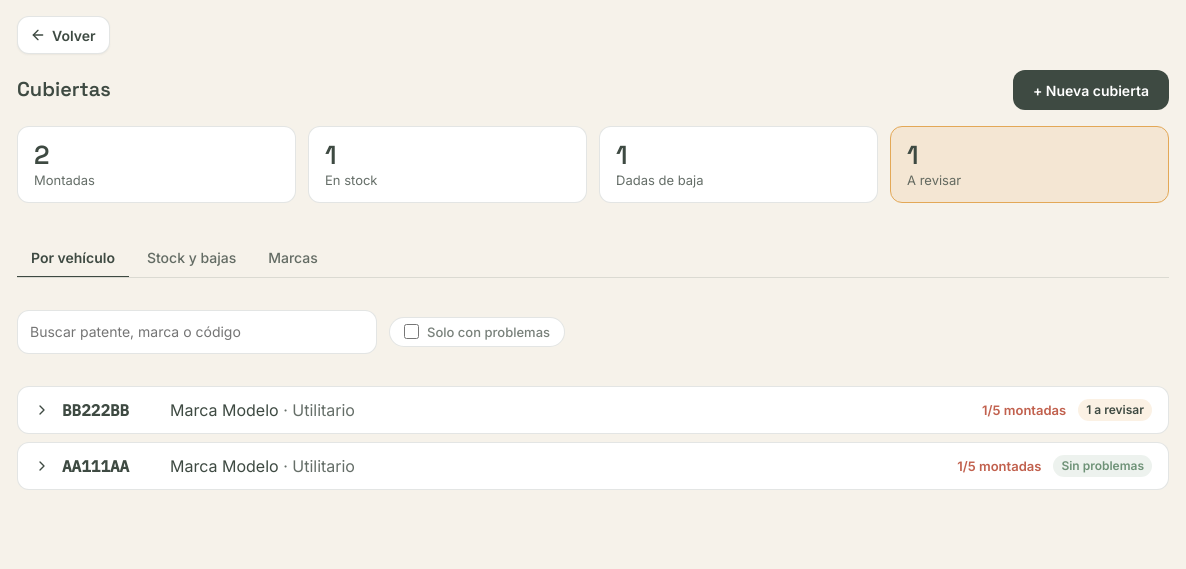
inventario de cubiertas (CAM-157) › stock y bajas se filtran y se buscan
Click the tab "Stock y bajas" at {"x": 192, "y": 258}, box [133, 239, 250, 278]
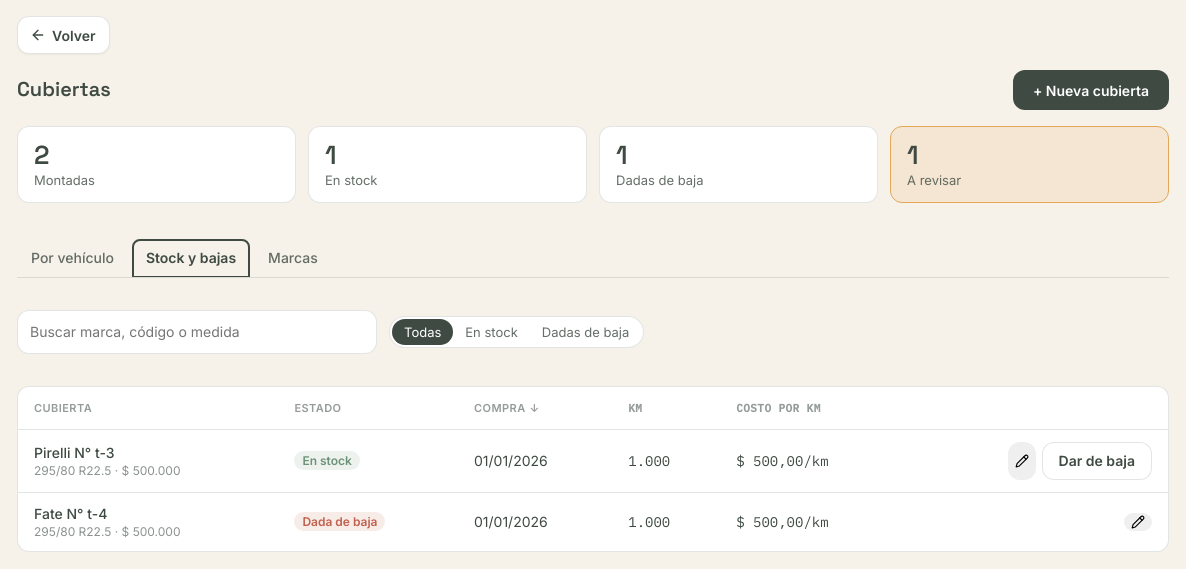
Now the text "Pirelli N° t-3" is shown, box [34, 444, 114, 461]
Now the text "Fate N° t-4" is shown, box [34, 505, 107, 522]
Click the button "Dadas de baja" at {"x": 586, "y": 332}, box [530, 319, 641, 345]
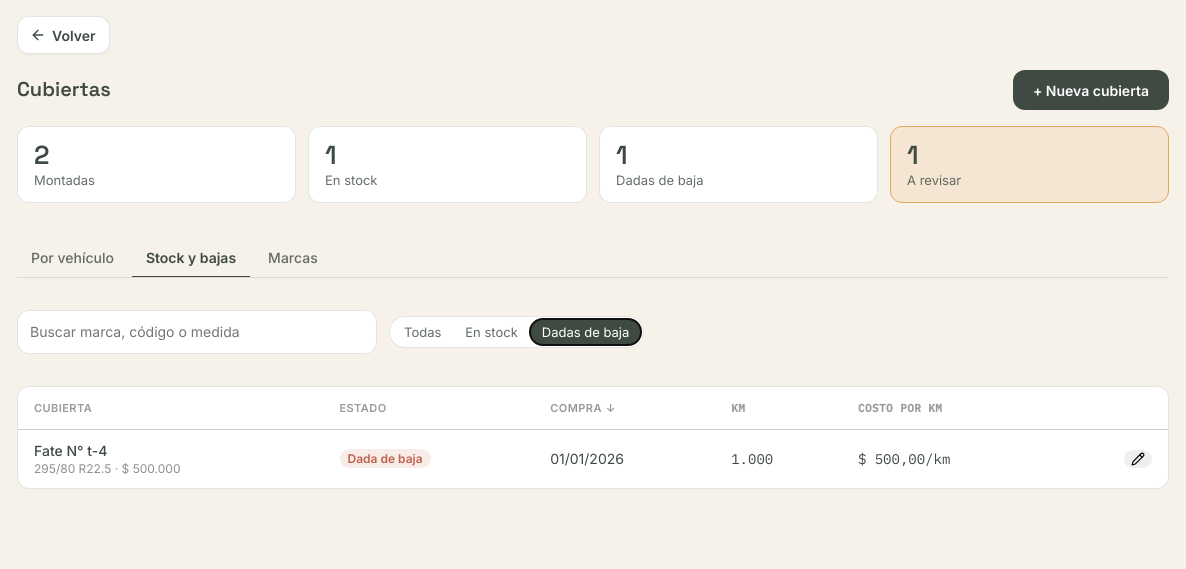
Now the text "Pirelli N° t-3" is gone
Click the button "Todas" at {"x": 423, "y": 332}, box [392, 319, 453, 345]
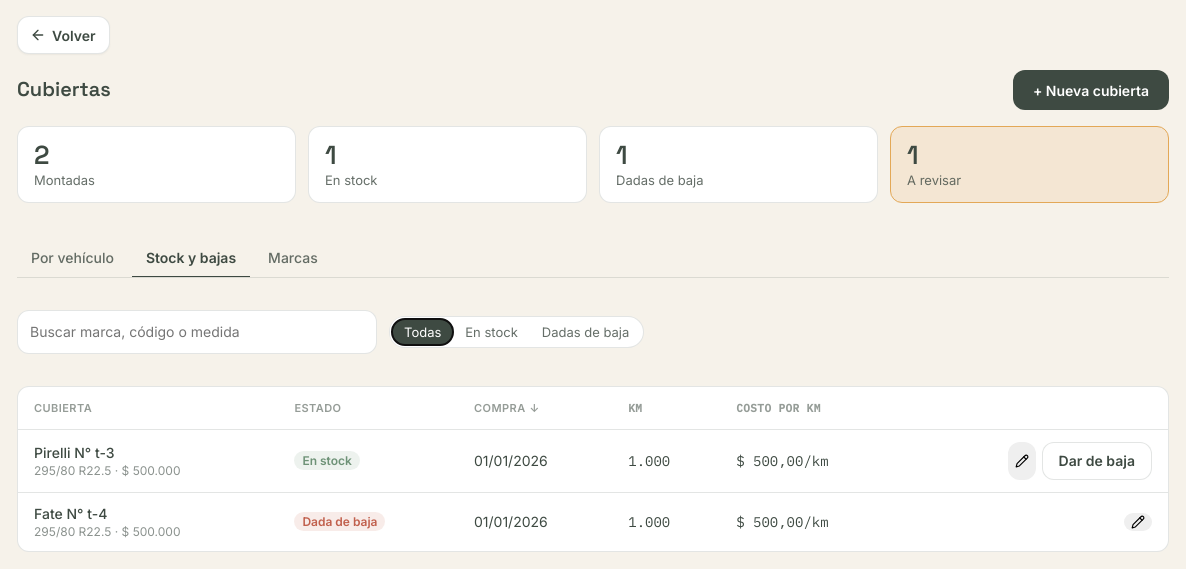
Type "pirelli" into the search field labelled "Buscar" at {"x": 197, "y": 332}, box [17, 310, 377, 354]
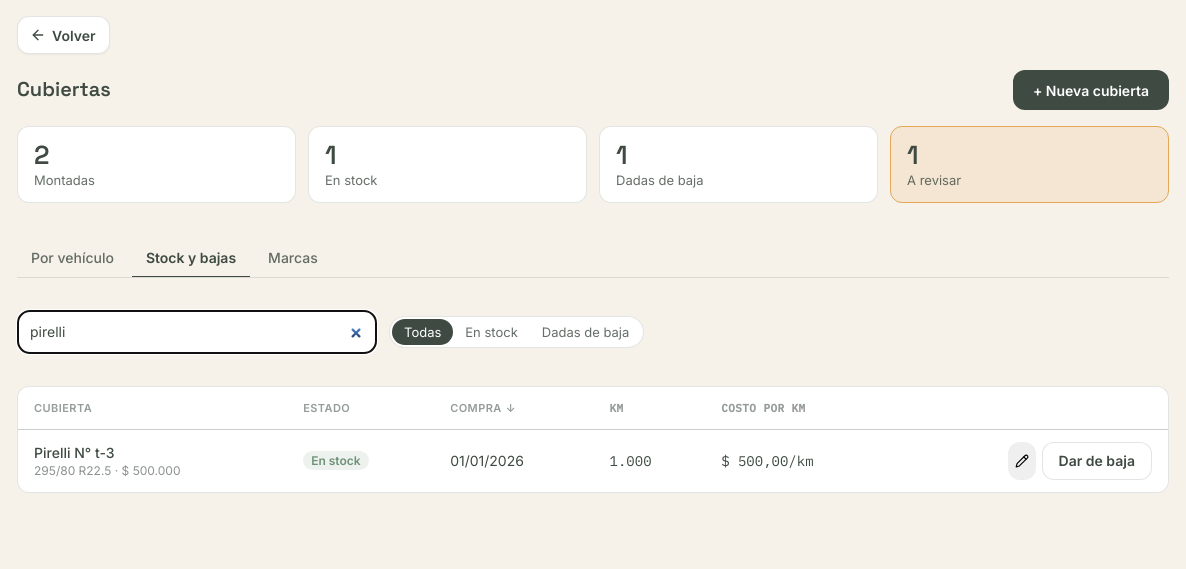
Now the text "Fate N° t-4" is gone
